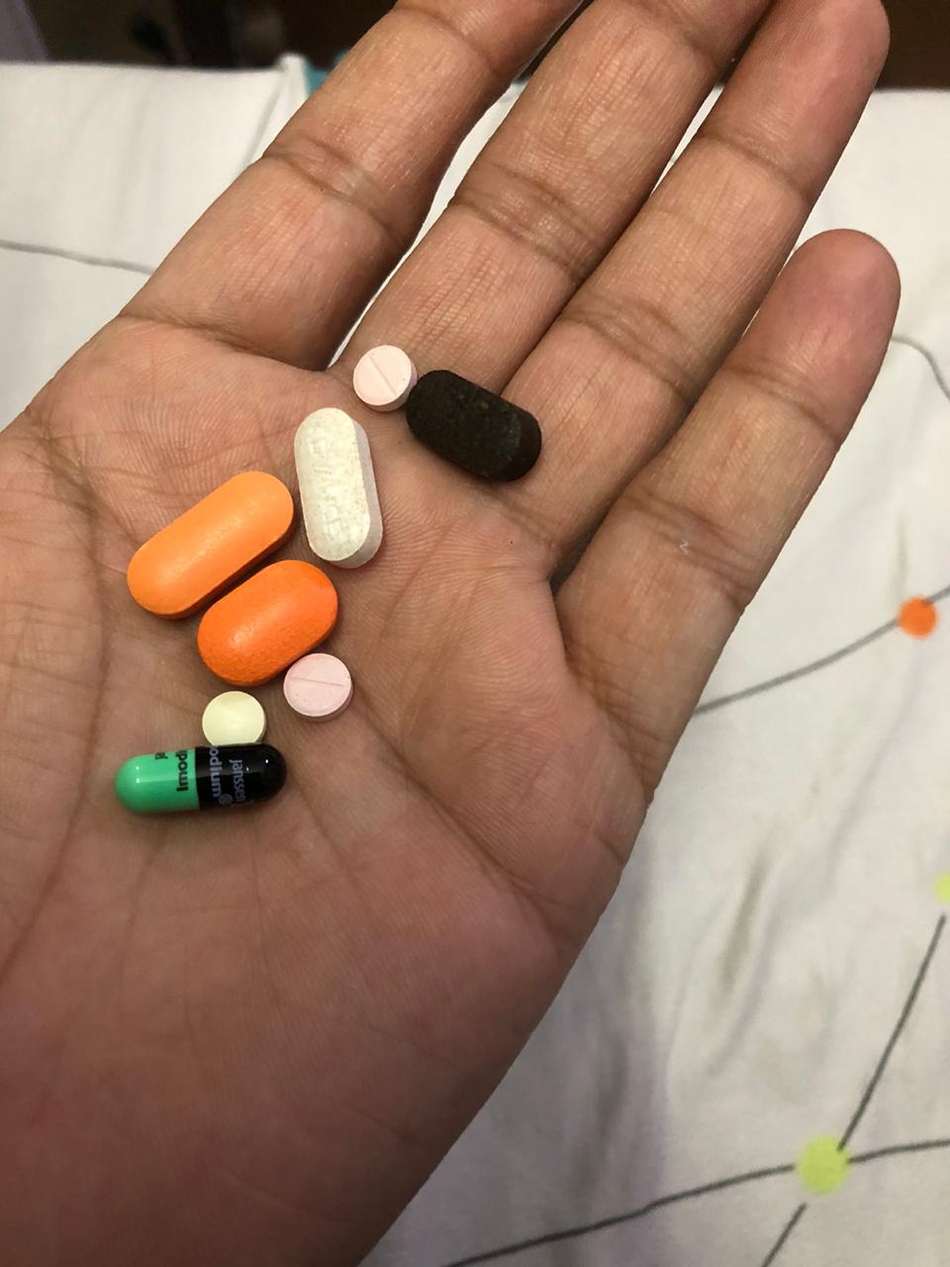tablets: (126, 468, 293, 619), (193, 562, 337, 682), (400, 368, 543, 484), (292, 408, 387, 569), (112, 740, 289, 816), (278, 654, 359, 718), (202, 689, 269, 756), (348, 343, 416, 409)
